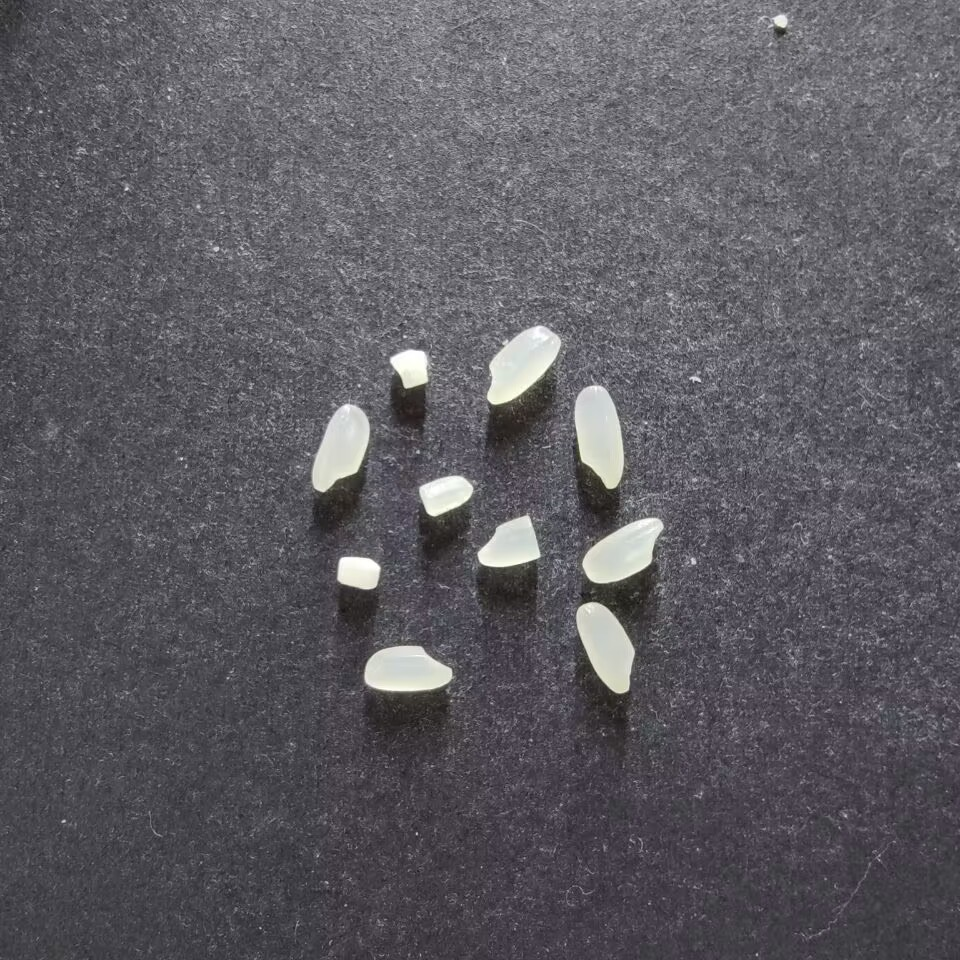broken: (476, 514, 542, 567), (417, 474, 474, 517), (335, 554, 381, 590), (389, 348, 429, 389)
rice: (485, 325, 561, 405), (574, 602, 636, 694), (581, 515, 663, 584), (310, 403, 371, 493), (573, 385, 623, 490), (363, 645, 452, 692)
